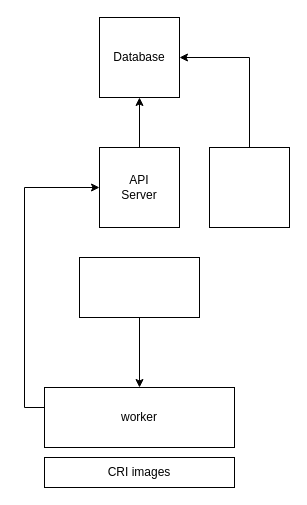
The diagram is 307 pixels wide and 505 high, and some of its shapes have lost their labels. Here are the shapes that lost their labels. From the top down, the centre of each, then its label:
At (x=249, y=187): "Updater".
At (x=139, y=287): "Node DeamonSet".
